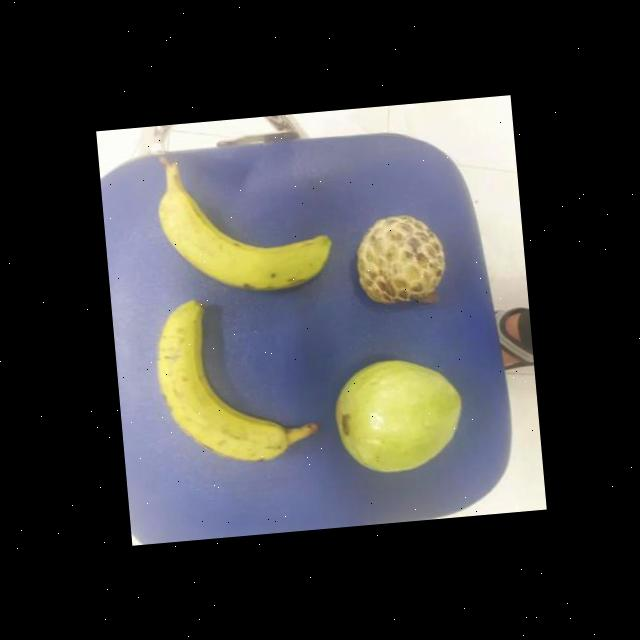Sakya fruit: (350, 212, 448, 312)
banana: (147, 294, 285, 471), (150, 168, 332, 300)
guava: (326, 350, 466, 480)
